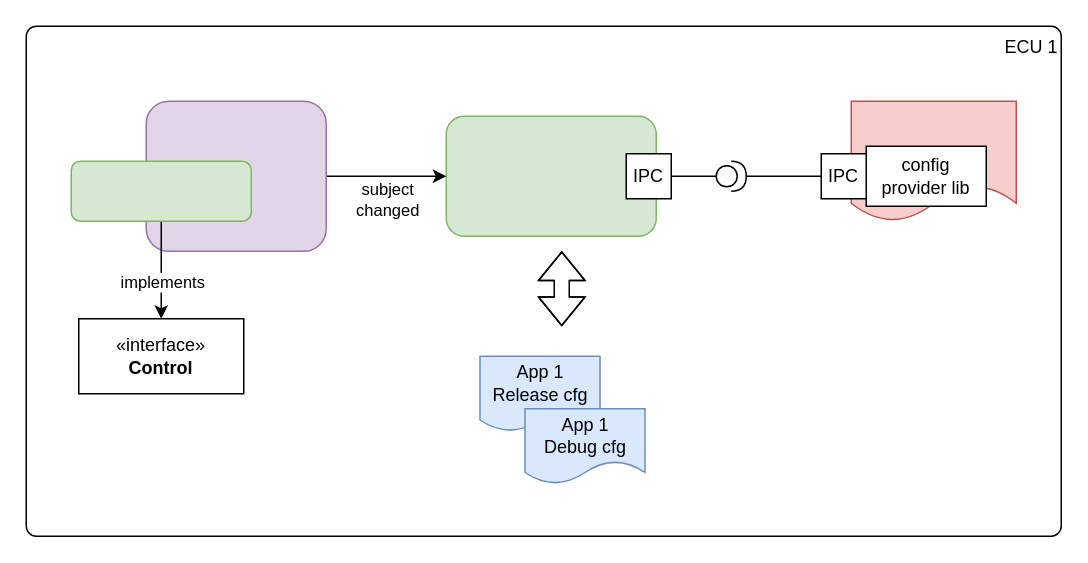
This 1088x563 diagram has some shape labels left out. The box of each missing label's shape, as (x1, y1, x2, y2) in pixels:
App 1: (850, 100, 1016, 221)
CM: (145, 100, 326, 251)
config manager: (445, 115, 656, 236)
S-CORE ident plugin: (70, 160, 251, 221)
